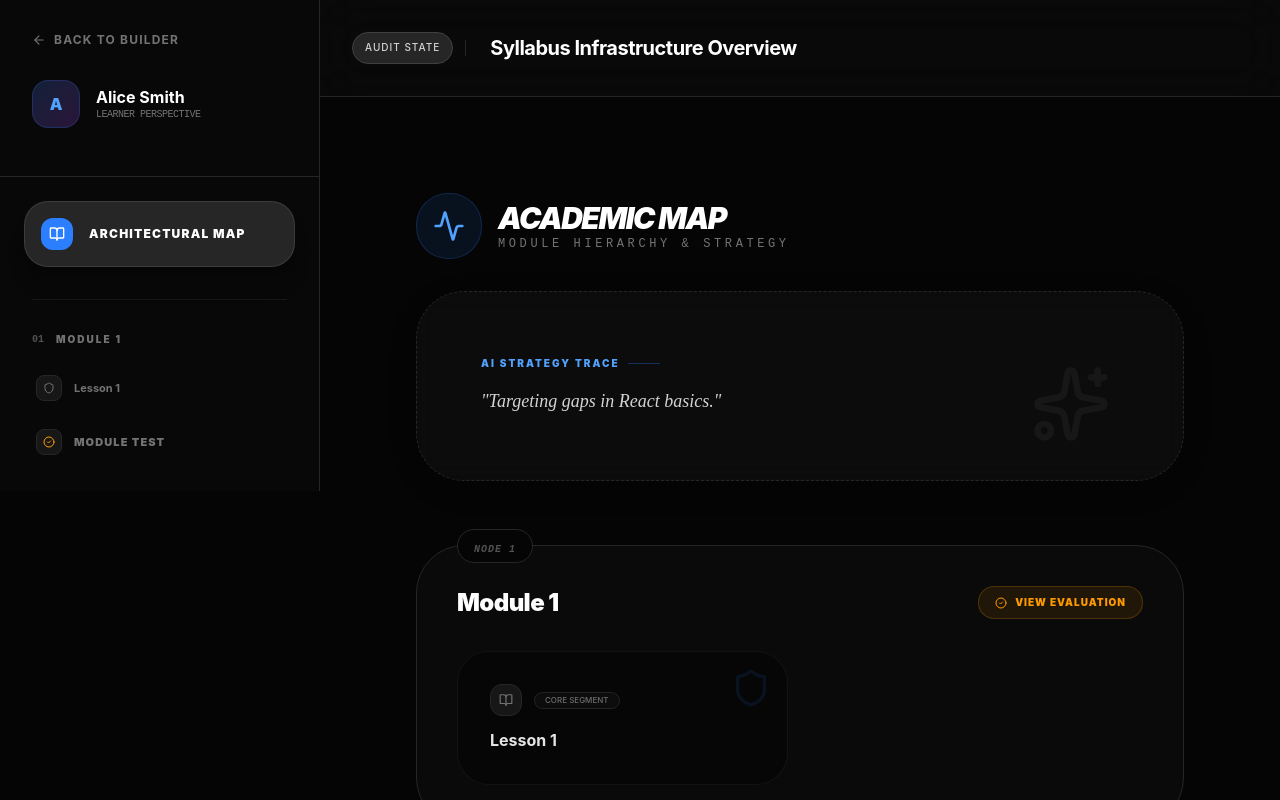
Scenario: CandidatePerspective Component › shows divergence badge for wrong answers in audit
The width and height of the screenshot is (1280, 800).
Click the button "View Evaluation": [1061, 603] box x1=978 y1=586 x2=1143 y2=619
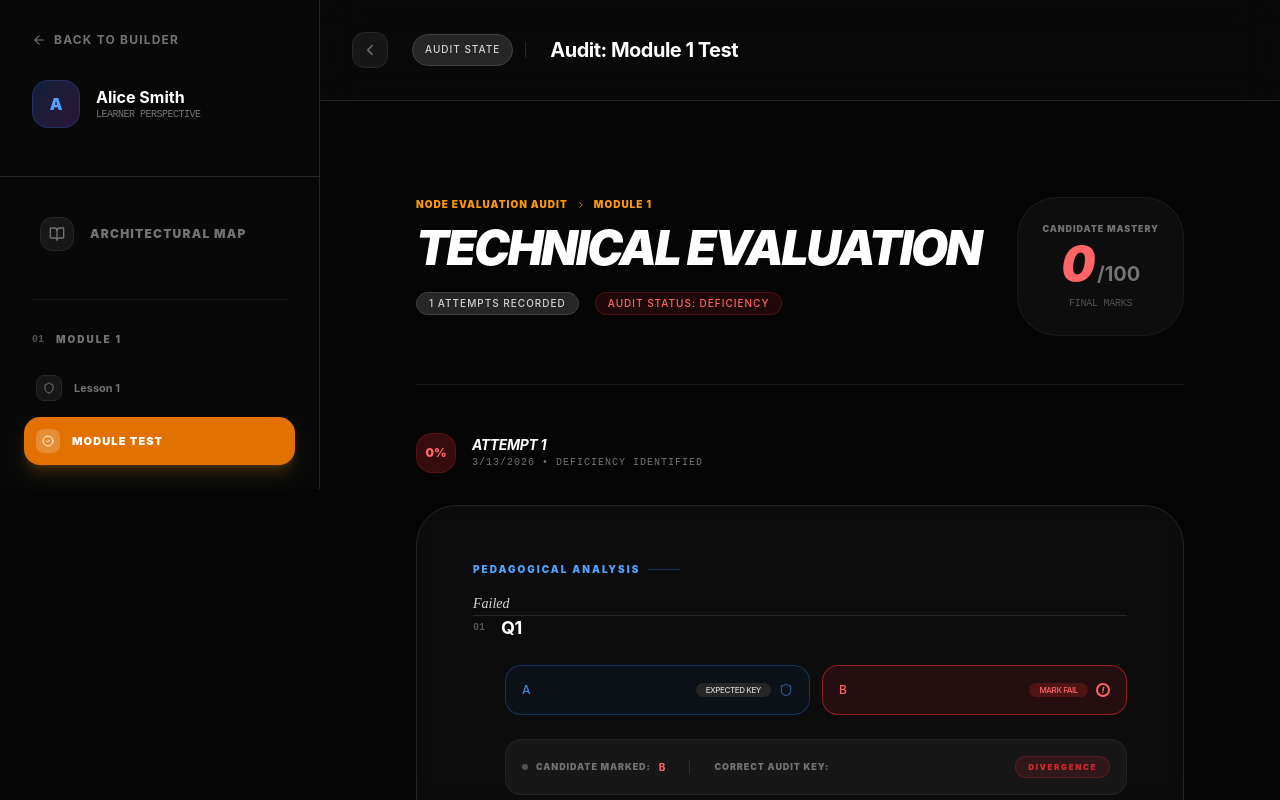
Expected: the text "Divergence" is shown, x1=1015 y1=756 x2=1110 y2=778
Expected: the text "Audit Status: DEFICIENCY" is shown, x1=595 y1=292 x2=782 y2=315
